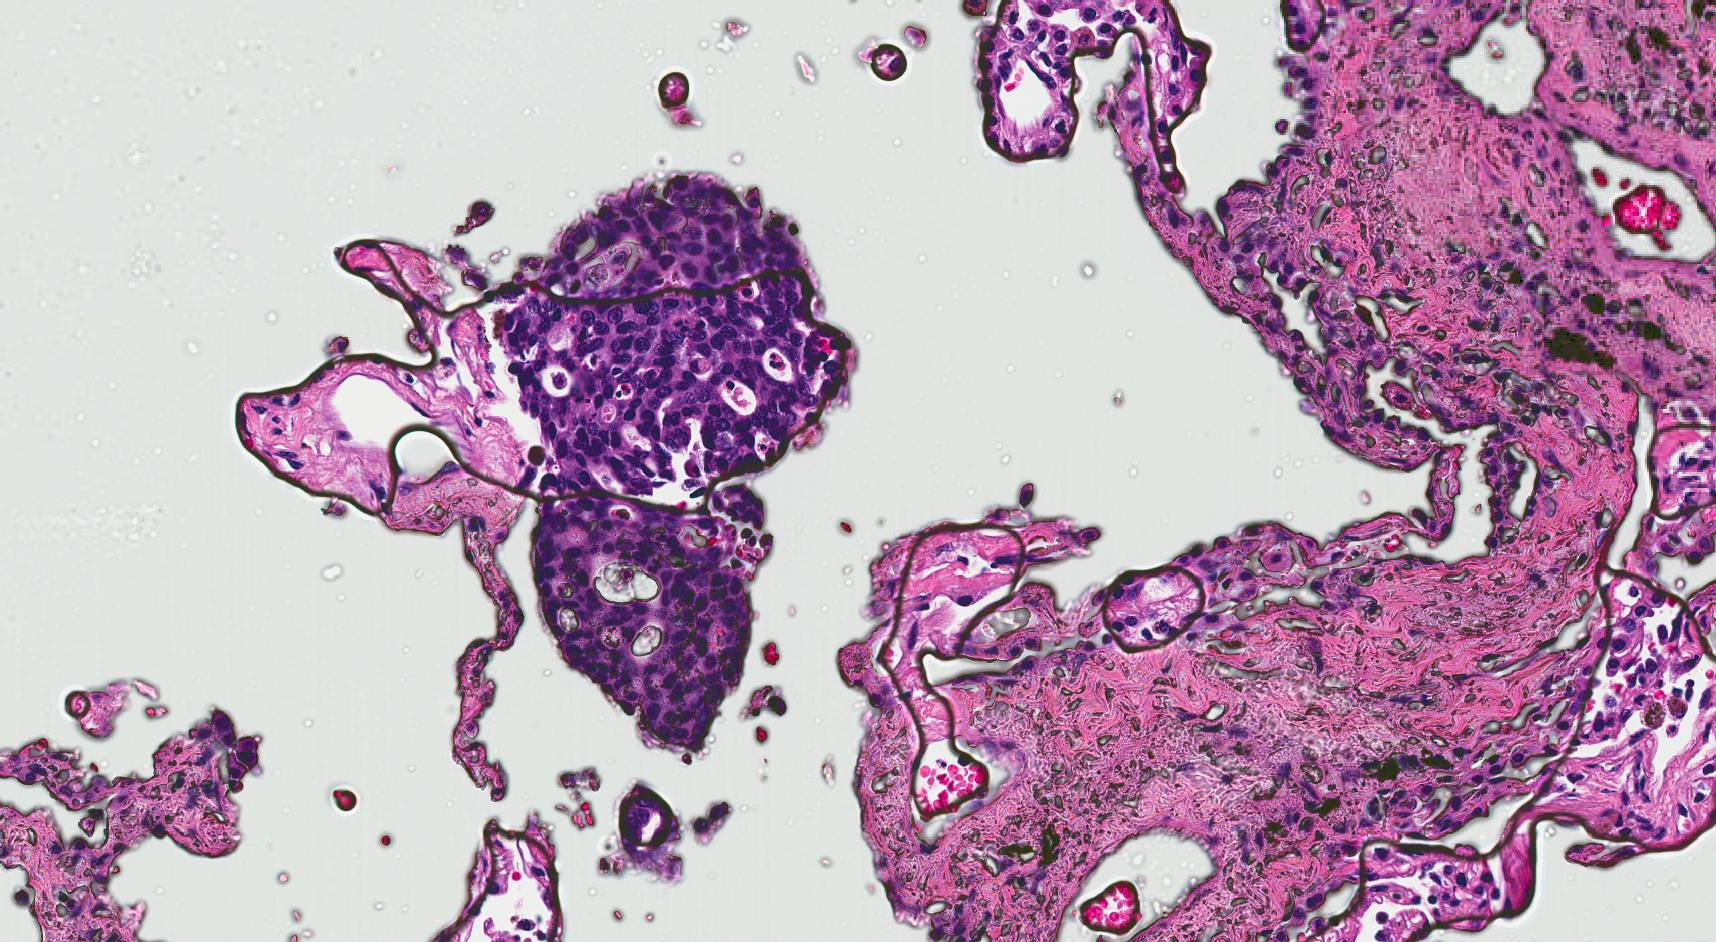stas: (496, 174, 852, 756), (614, 783, 687, 862)
